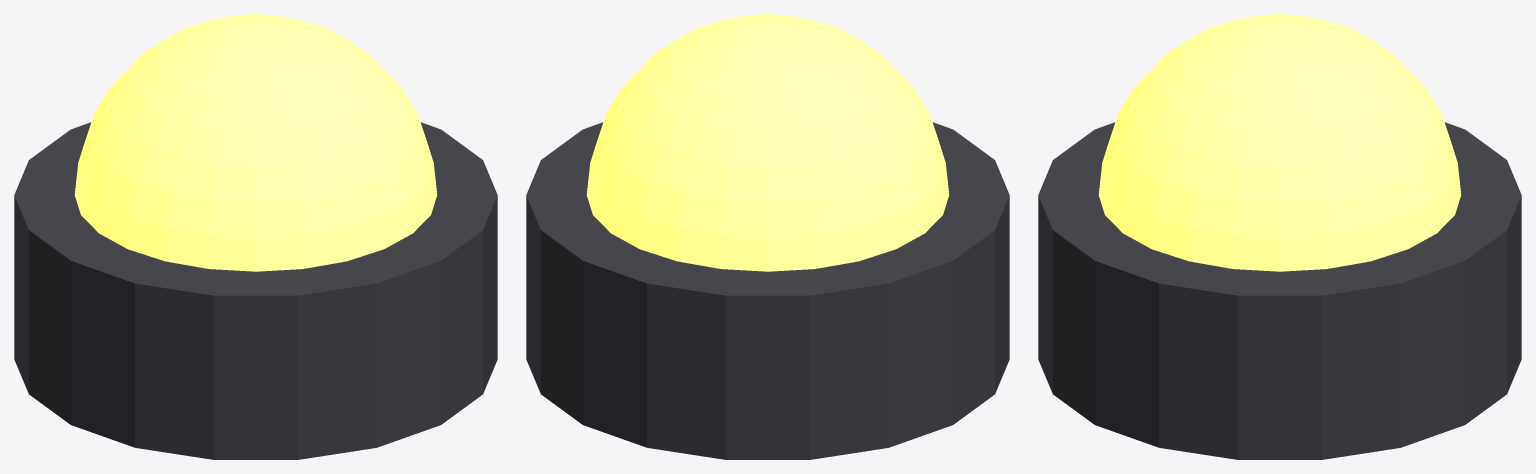
The model's file is warning_lamp.glb.
3 renders of one model, left to right at view 1: azimuth 30°, elevation 25°; view 2: azimuth 150°, elevation 25°; view 3: azimuth 270°, elevation 25°, orthographic.
Parts seen in each view (by area): view 1: LampBezel, LampDome; view 2: LampBezel, LampDome; view 3: LampBezel, LampDome.
Part boxes in pixels (x1,y1,x2,y2): LampBezel: (14, 122, 497, 459); LampDome: (74, 14, 437, 271); LampBezel: (526, 122, 1009, 459); LampDome: (586, 14, 949, 271); LampBezel: (1038, 122, 1521, 459); LampDome: (1098, 14, 1461, 271).
Size of the model in its own units: 0.0315 by 0.024 by 0.032.
